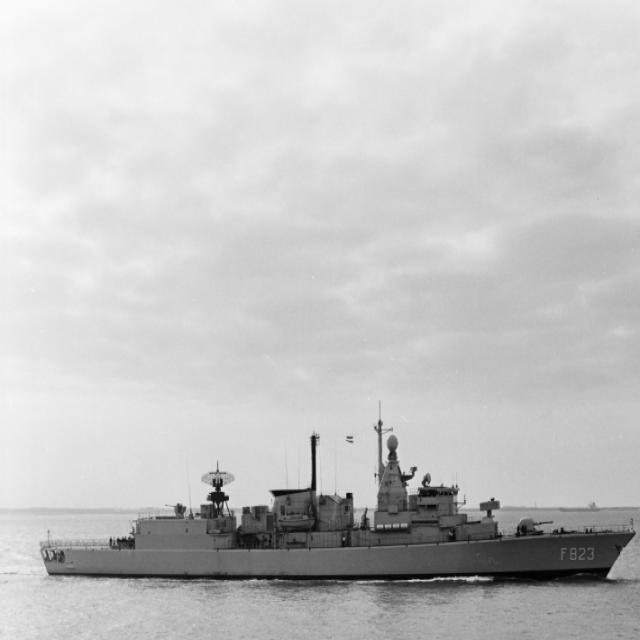Fragata: (36, 398, 640, 591)
